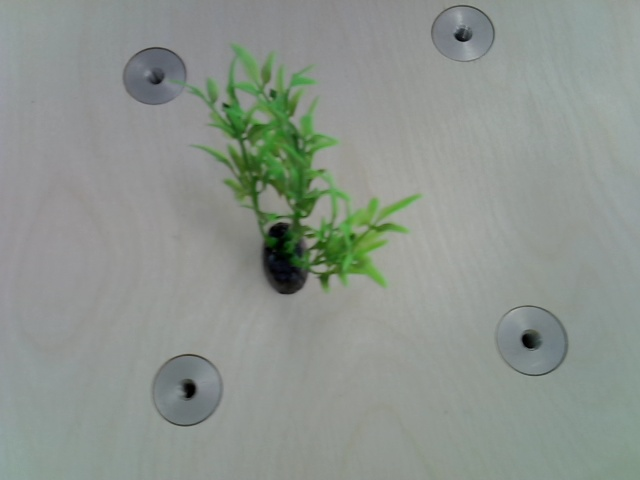튤립새싹: (187, 43, 422, 301)
